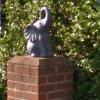Statue: (16, 7, 66, 75)
